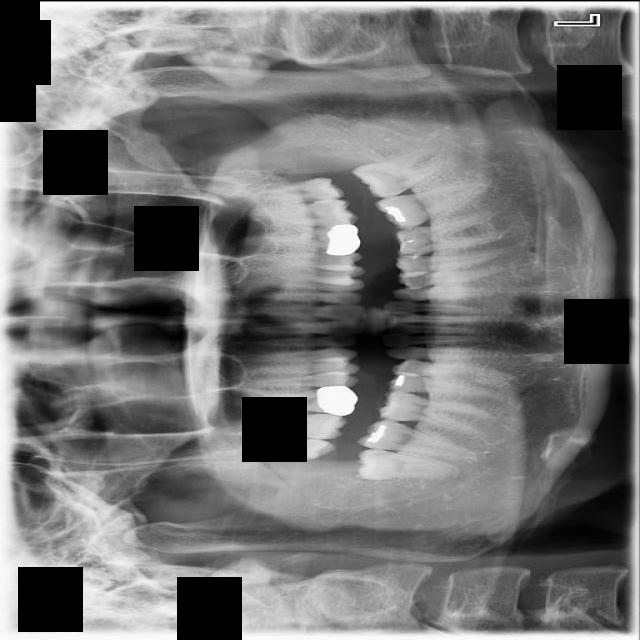3M ESPE Implant: (243, 434, 336, 461), (241, 438, 335, 459)
52: (354, 405, 409, 462), (375, 184, 428, 239), (313, 383, 360, 416), (391, 224, 429, 261), (319, 223, 360, 255), (384, 368, 423, 392)
73: (539, 47, 550, 54)
BioHorizons Implant: (252, 197, 358, 230)
BioLife Implant: (255, 174, 344, 210)
Biomet 3i Implant: (348, 138, 452, 207)
Blue Sky Bio Implant: (374, 177, 491, 234)
Caries: (231, 412, 348, 442), (227, 413, 347, 438)
Implant: (355, 416, 469, 458)
Keystone Dental Implant: (354, 446, 456, 480)
